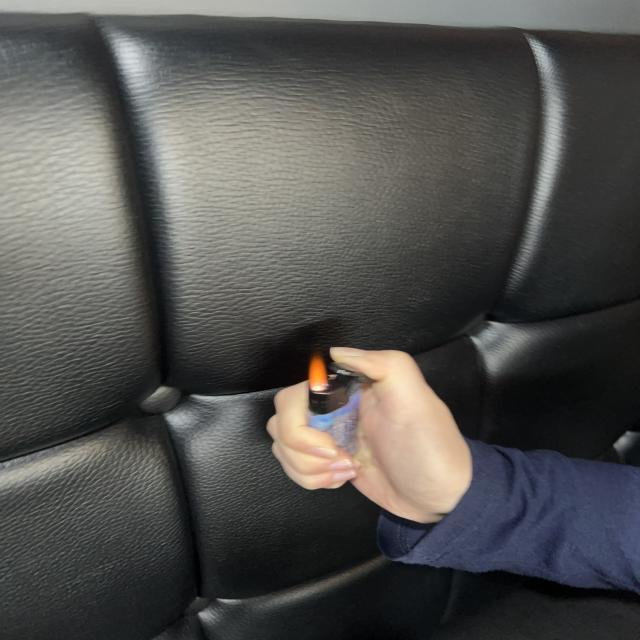fire: (309, 350, 329, 393)
